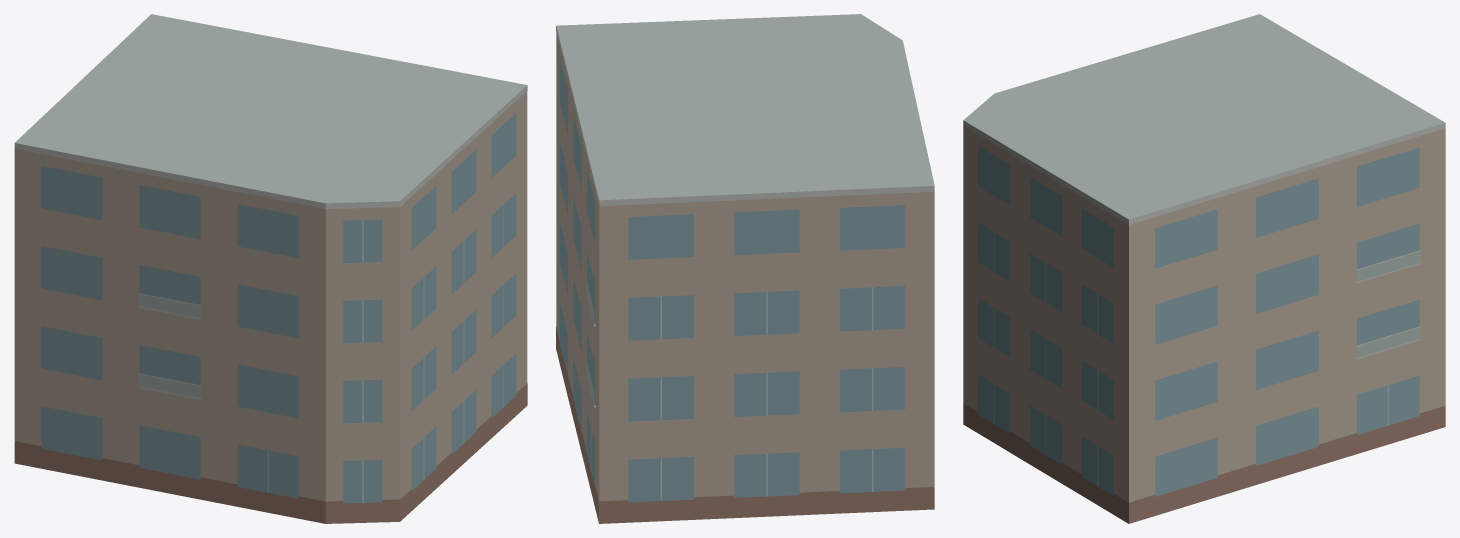
Rendered from survey-upis-32828979.glb.
The picture shows the model from 3 angles, left to right: view 1: azimuth 30°, elevation 25°; view 2: azimuth 150°, elevation 25°; view 3: azimuth 270°, elevation 25°; orthographic projection. The views are drawn at different scales.
Visible parts, largest first — view 1: survey-upis-32828979.tmp; view 2: survey-upis-32828979.tmp; view 3: survey-upis-32828979.tmp.
Part boxes in pixels (x1=…): survey-upis-32828979.tmp: x1=14, y1=14, x2=527, y2=523; survey-upis-32828979.tmp: x1=556, y1=14, x2=934, y2=523; survey-upis-32828979.tmp: x1=963, y1=14, x2=1445, y2=523.
Size of the model in its own units: 19.58 by 13.5 by 19.4.
